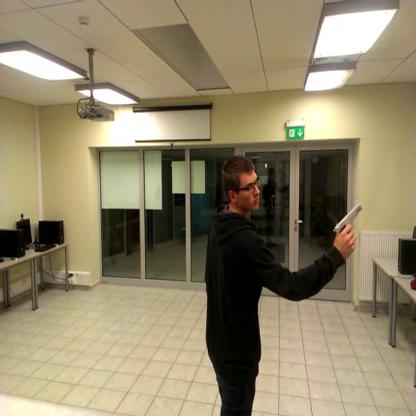Pistol: (332, 199, 364, 244)
